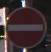No entry: (6, 5, 46, 46)
